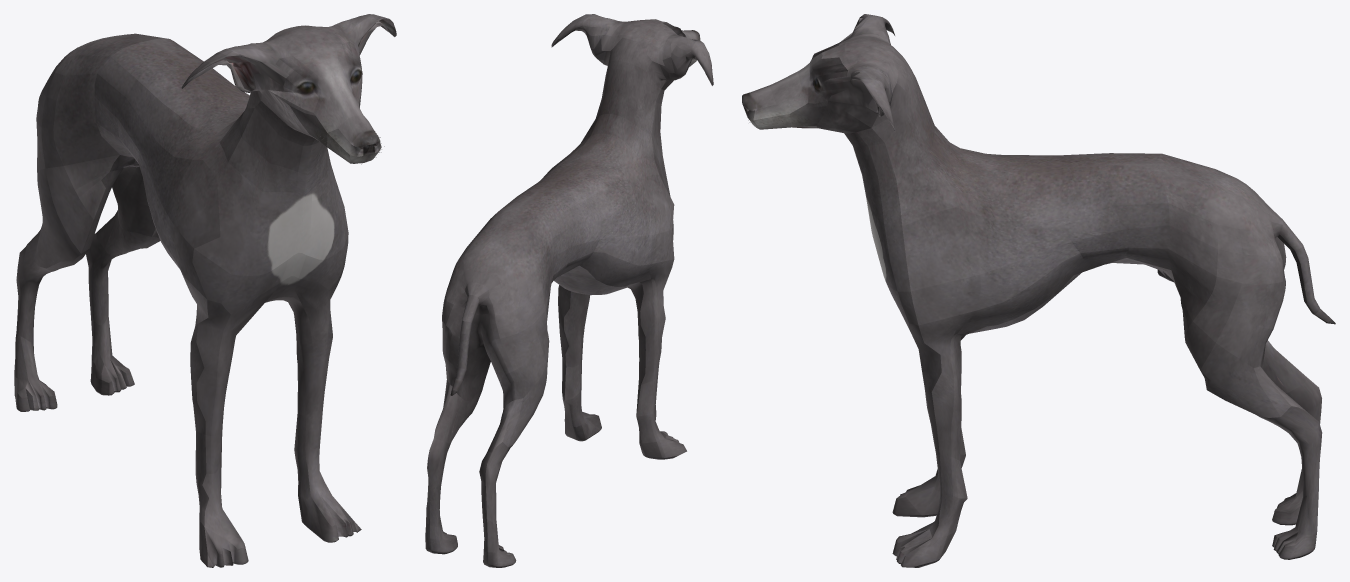
File: doggie9.obj
The picture shows the model from 3 angles, left to right: view 1: azimuth 30°, elevation 25°; view 2: azimuth 150°, elevation 25°; view 3: azimuth 270°, elevation 25°; orthographic projection. The views are drawn at different scales.
Parts seen in each view (by area): view 1: _Italian_Greyhound_v2_l2:Italian_Greyhound; view 2: _Italian_Greyhound_v2_l2:Italian_Greyhound; view 3: _Italian_Greyhound_v2_l2:Italian_Greyhound.
Boxes of the visible parts, x1,y1,x2,y2 form: _Italian_Greyhound_v2_l2:Italian_Greyhound: [14, 14, 396, 567]; _Italian_Greyhound_v2_l2:Italian_Greyhound: [425, 14, 713, 567]; _Italian_Greyhound_v2_l2:Italian_Greyhound: [742, 14, 1335, 567].
Bounding box in the file's own units: 0.1963 × 0.4664 × 0.5102.
1 material, 1 textured.
